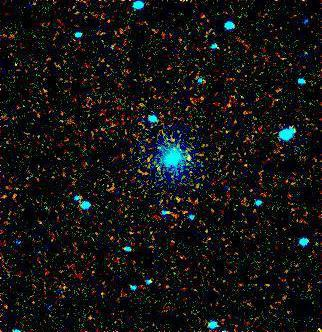star: (174, 143, 204, 173)
